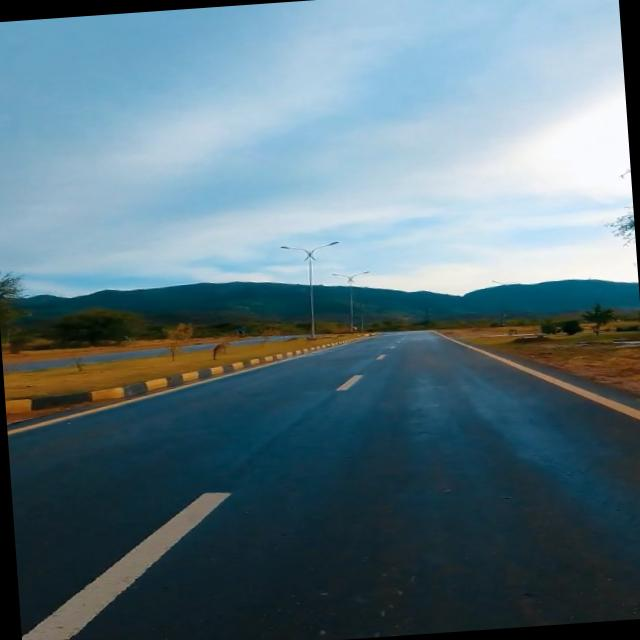asphalt: (7, 331, 640, 640)
